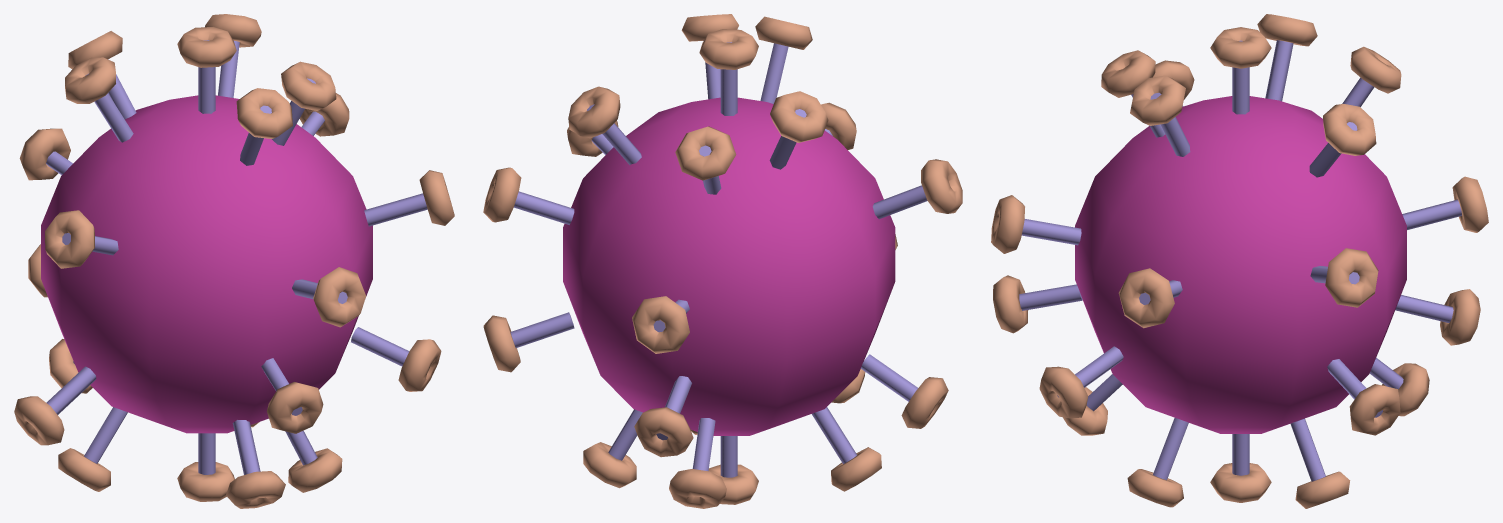
File: virus.fbx
3 views of the same model, side by side, from view 1: azimuth 30°, elevation 25°; view 2: azimuth 150°, elevation 25°; view 3: azimuth 270°, elevation 25° (orthographic).
Parts seen in each view (by area): view 1: Mesh_0; view 2: Mesh_0; view 3: Mesh_0.
Boxes of the visible parts, left/top/right/bottom form: Mesh_0: left=14, top=14, right=454, bottom=508; Mesh_0: left=483, top=14, right=962, bottom=508; Mesh_0: left=991, top=14, right=1488, bottom=508.
Bounding box in the file's own units: 1356 × 1469 × 1454.
